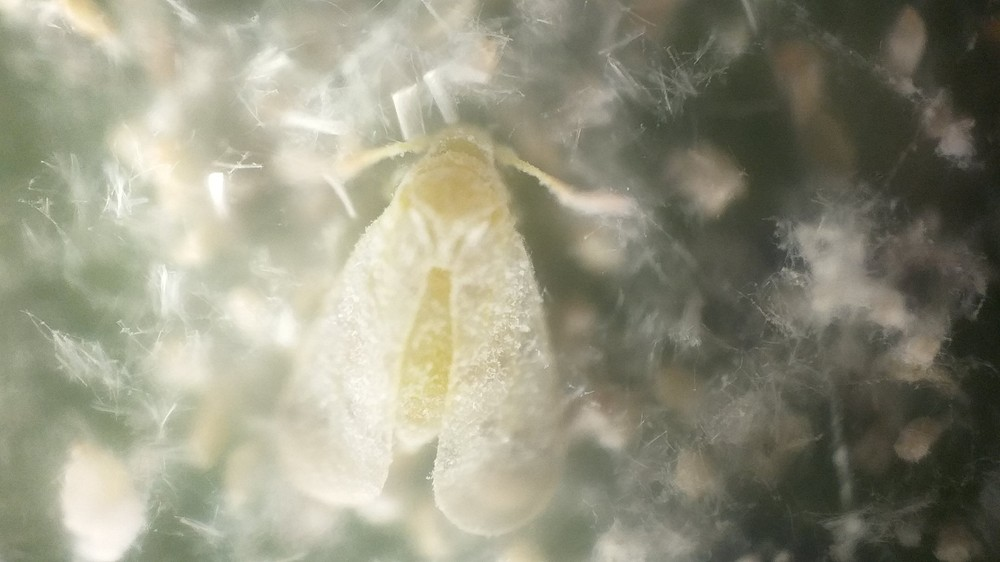Mosca Blanca: (248, 117, 668, 541)
